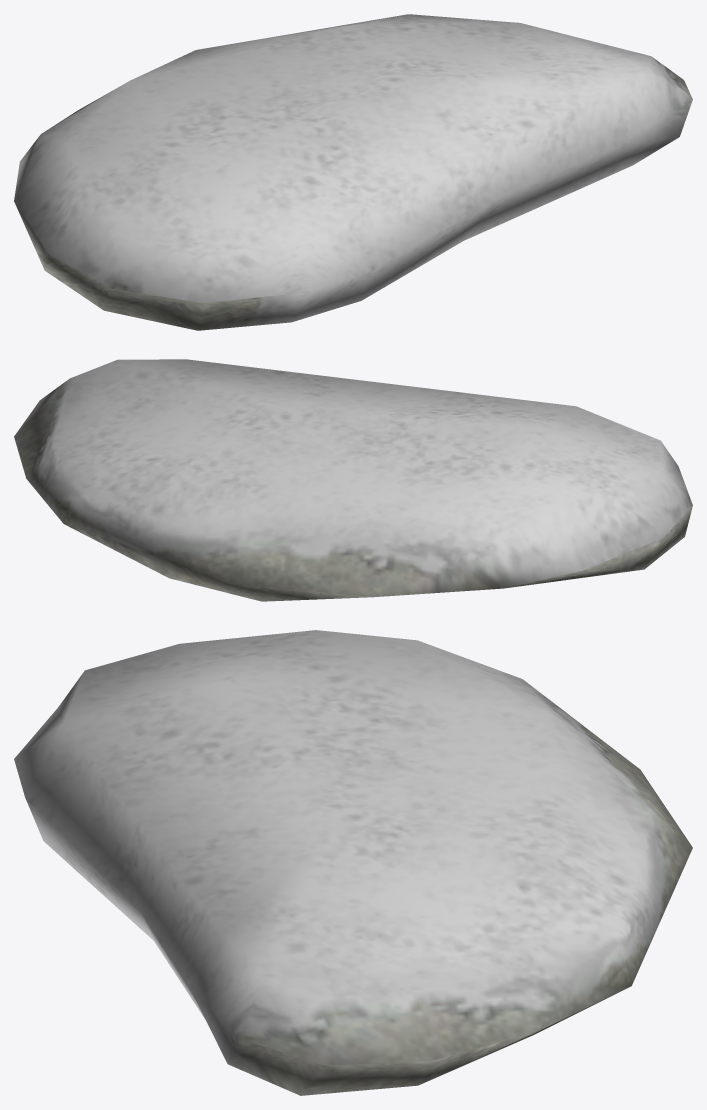
File: general_obj_stone14_lod_01.fbx
3 renders of one model, top to bottom at view 1: azimuth 30°, elevation 25°; view 2: azimuth 150°, elevation 25°; view 3: azimuth 270°, elevation 25°, orthographic. The views are drawn at different scales.
Parts seen in each view (by area): view 1: Sphere01; view 2: Sphere01; view 3: Sphere01.
Boxes of the visible parts, left/top/right/bottom form: Sphere01: left=14, top=14, right=692, bottom=330; Sphere01: left=14, top=359, right=692, bottom=601; Sphere01: left=14, top=630, right=692, bottom=1095.
Size of the model in its own units: 6.72 by 1.04 by 4.74.
